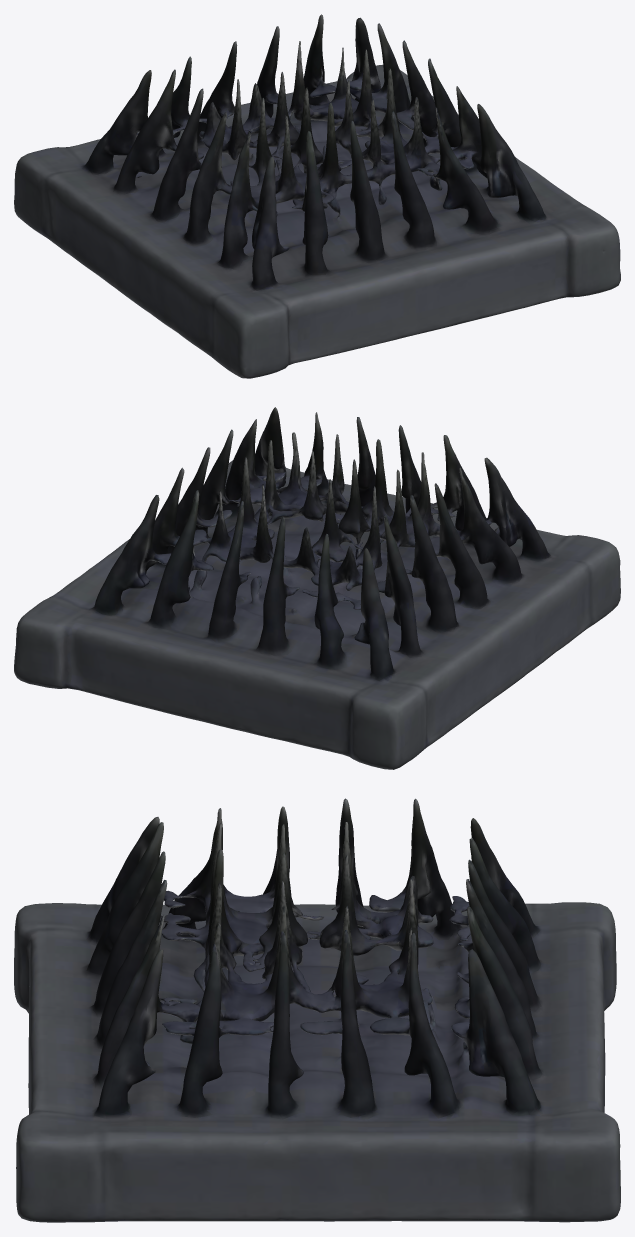
Rendered from 91e8d5c56980_spikes_trap__3d_ass.fbx.
The picture shows the model from 3 angles, top to bottom: view 1: azimuth 30°, elevation 25°; view 2: azimuth 150°, elevation 25°; view 3: azimuth 270°, elevation 25°; orthographic projection. The views are drawn at different scales.
Parts seen in each view (by area): view 1: high_poly; view 2: high_poly; view 3: high_poly.
Boxes of the visible parts, x1,y1,x2,y2 form: high_poly: [14, 14, 620, 378]; high_poly: [14, 407, 620, 769]; high_poly: [14, 798, 620, 1222].
Bounding box in the file's own units: 95.86 × 43.75 × 100.
